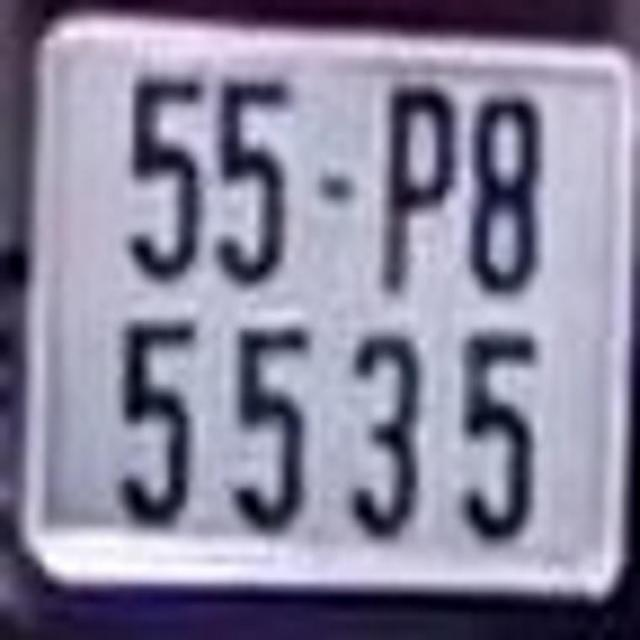3: (352, 329, 419, 537)
5: (463, 330, 540, 549), (129, 69, 206, 288), (232, 326, 309, 526), (216, 76, 290, 284), (121, 316, 194, 519)
8: (474, 90, 540, 288)
P: (388, 83, 455, 319)
